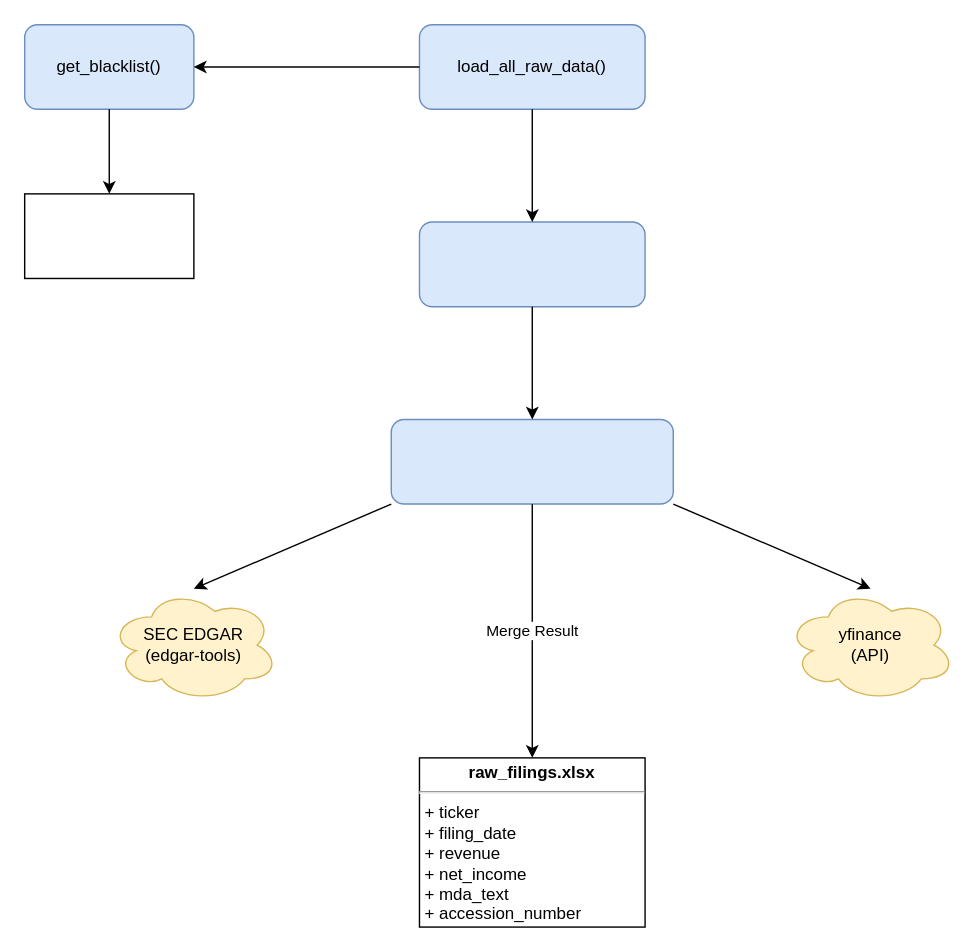
The diagram is 980 pixels wide and 952 high, and some of its shapes have lost their labels. The centre of each missing label's shape, as x and y in pixels:
blacklist.txt + ticker_list: [108,235]
fetch_and_extract_filing_data(): [531,461]
process_single_ticker() (Thread Pool): [531,264]
